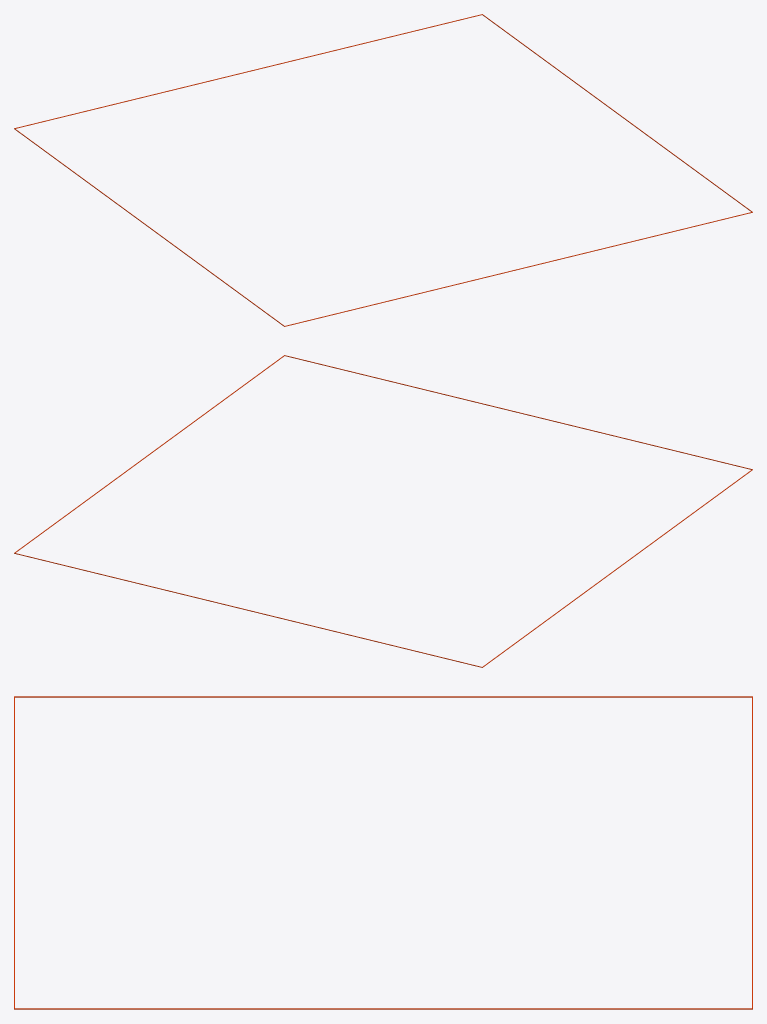
File: EnvNoColliders.fbx
3 renders of one model, top to bottom at view 1: azimuth 30°, elevation 25°; view 2: azimuth 150°, elevation 25°; view 3: azimuth 270°, elevation 25°, orthographic. The views are drawn at different scales.
Parts seen in each view (by area): view 1: Border; view 2: Border; view 3: Border.
Part boxes in pixels (x1,y1,x2,y2): Border: (14, 14, 752, 326); Border: (14, 355, 752, 667); Border: (14, 696, 752, 1009).
Bounding box in the file's own units: 1606 × 2 × 1606.
